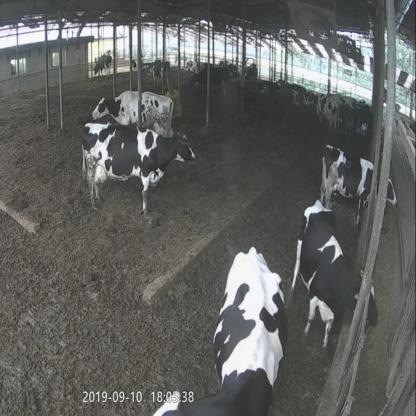cow: (154, 249, 284, 416), (290, 200, 379, 343), (82, 122, 196, 210), (318, 144, 399, 213), (92, 91, 174, 128), (190, 66, 231, 95), (307, 93, 339, 130), (94, 54, 112, 77), (152, 62, 169, 86)
